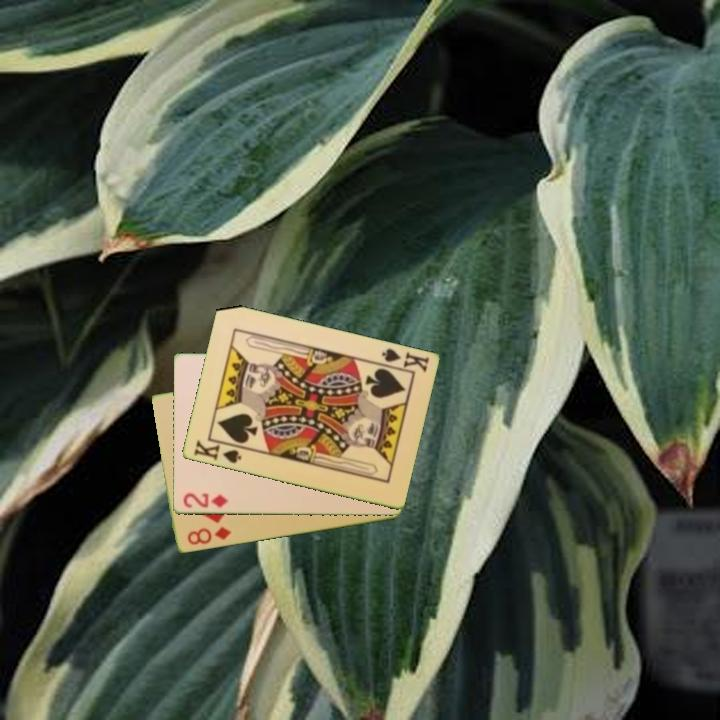2d: (179, 489, 230, 511)
8d: (183, 524, 234, 548)
Ks: (374, 345, 432, 376), (190, 436, 246, 466)
